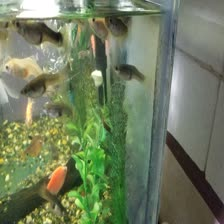Guppy: (11, 15, 68, 49), (19, 68, 68, 101), (108, 59, 152, 84), (3, 57, 46, 78), (103, 15, 132, 41), (86, 14, 110, 43)
Plano: (44, 160, 70, 197)
Transparente: (21, 129, 46, 160)
